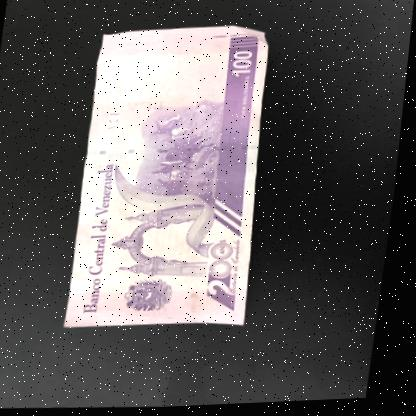one_hundred-back-vef: (67, 22, 287, 335)
